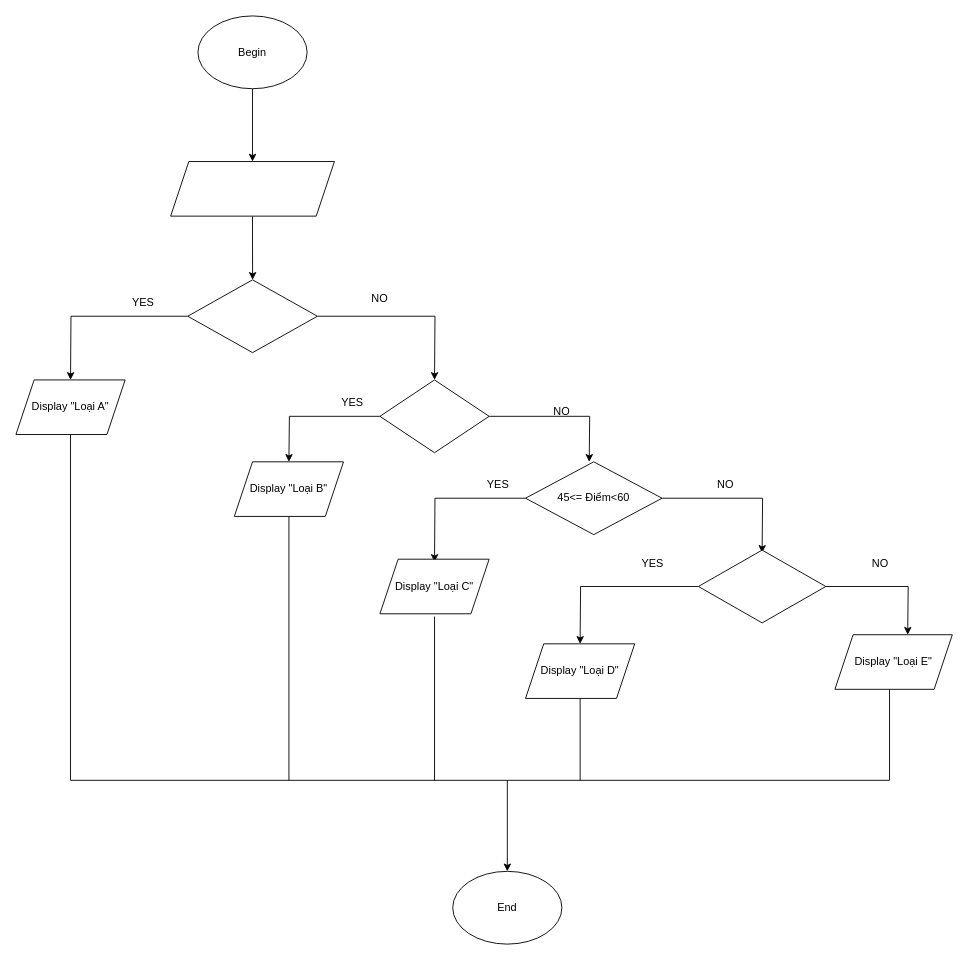
The diagram is 968 pixels wide and 960 high, and some of its shapes have lost their labels. The shapes that lost their labels are listed below. From the top down, each one's centre as x and y in pixels, then its label:
At point (252, 188): "Nhập điếm từ 0 đến 100".
At point (252, 316): "Điểm >75".
At point (434, 416): "60<= Điểm <75".
At point (762, 586): "35<= Điểm<45".
